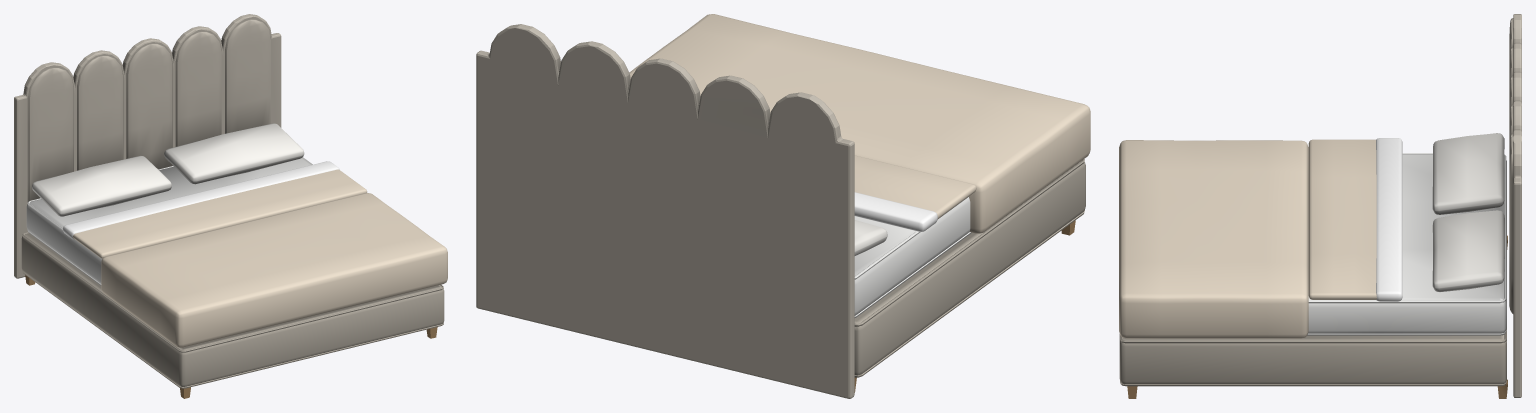
Rendered from bedQueenUpholstered.glb.
3 renders of one model, left to right at view 1: azimuth 30°, elevation 25°; view 2: azimuth 150°, elevation 25°; view 3: azimuth 270°, elevation 25°, orthographic. The views are drawn at different scales.
Parts seen in each view (by area): view 1: bedQueenUpholstered, duvet_flap; view 2: bedQueenUpholstered, duvet_flap; view 3: bedQueenUpholstered, duvet_flap.
Part boxes in pixels (box(x1,y1,x2,y2)): bedQueenUpholstered: box(14, 14, 447, 398); duvet_flap: box(63, 161, 367, 258); bedQueenUpholstered: box(476, 14, 1090, 398); duvet_flap: box(854, 155, 976, 231); bedQueenUpholstered: box(1119, 14, 1521, 398); duvet_flap: box(1308, 138, 1402, 301).
Bounding box in the file's own units: 1.77 × 1.3 × 1.89.
